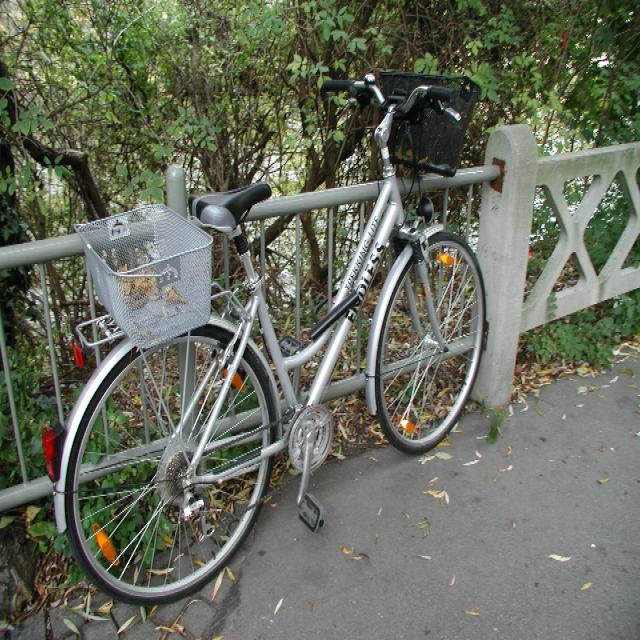bicycle: (56, 69, 488, 604)
